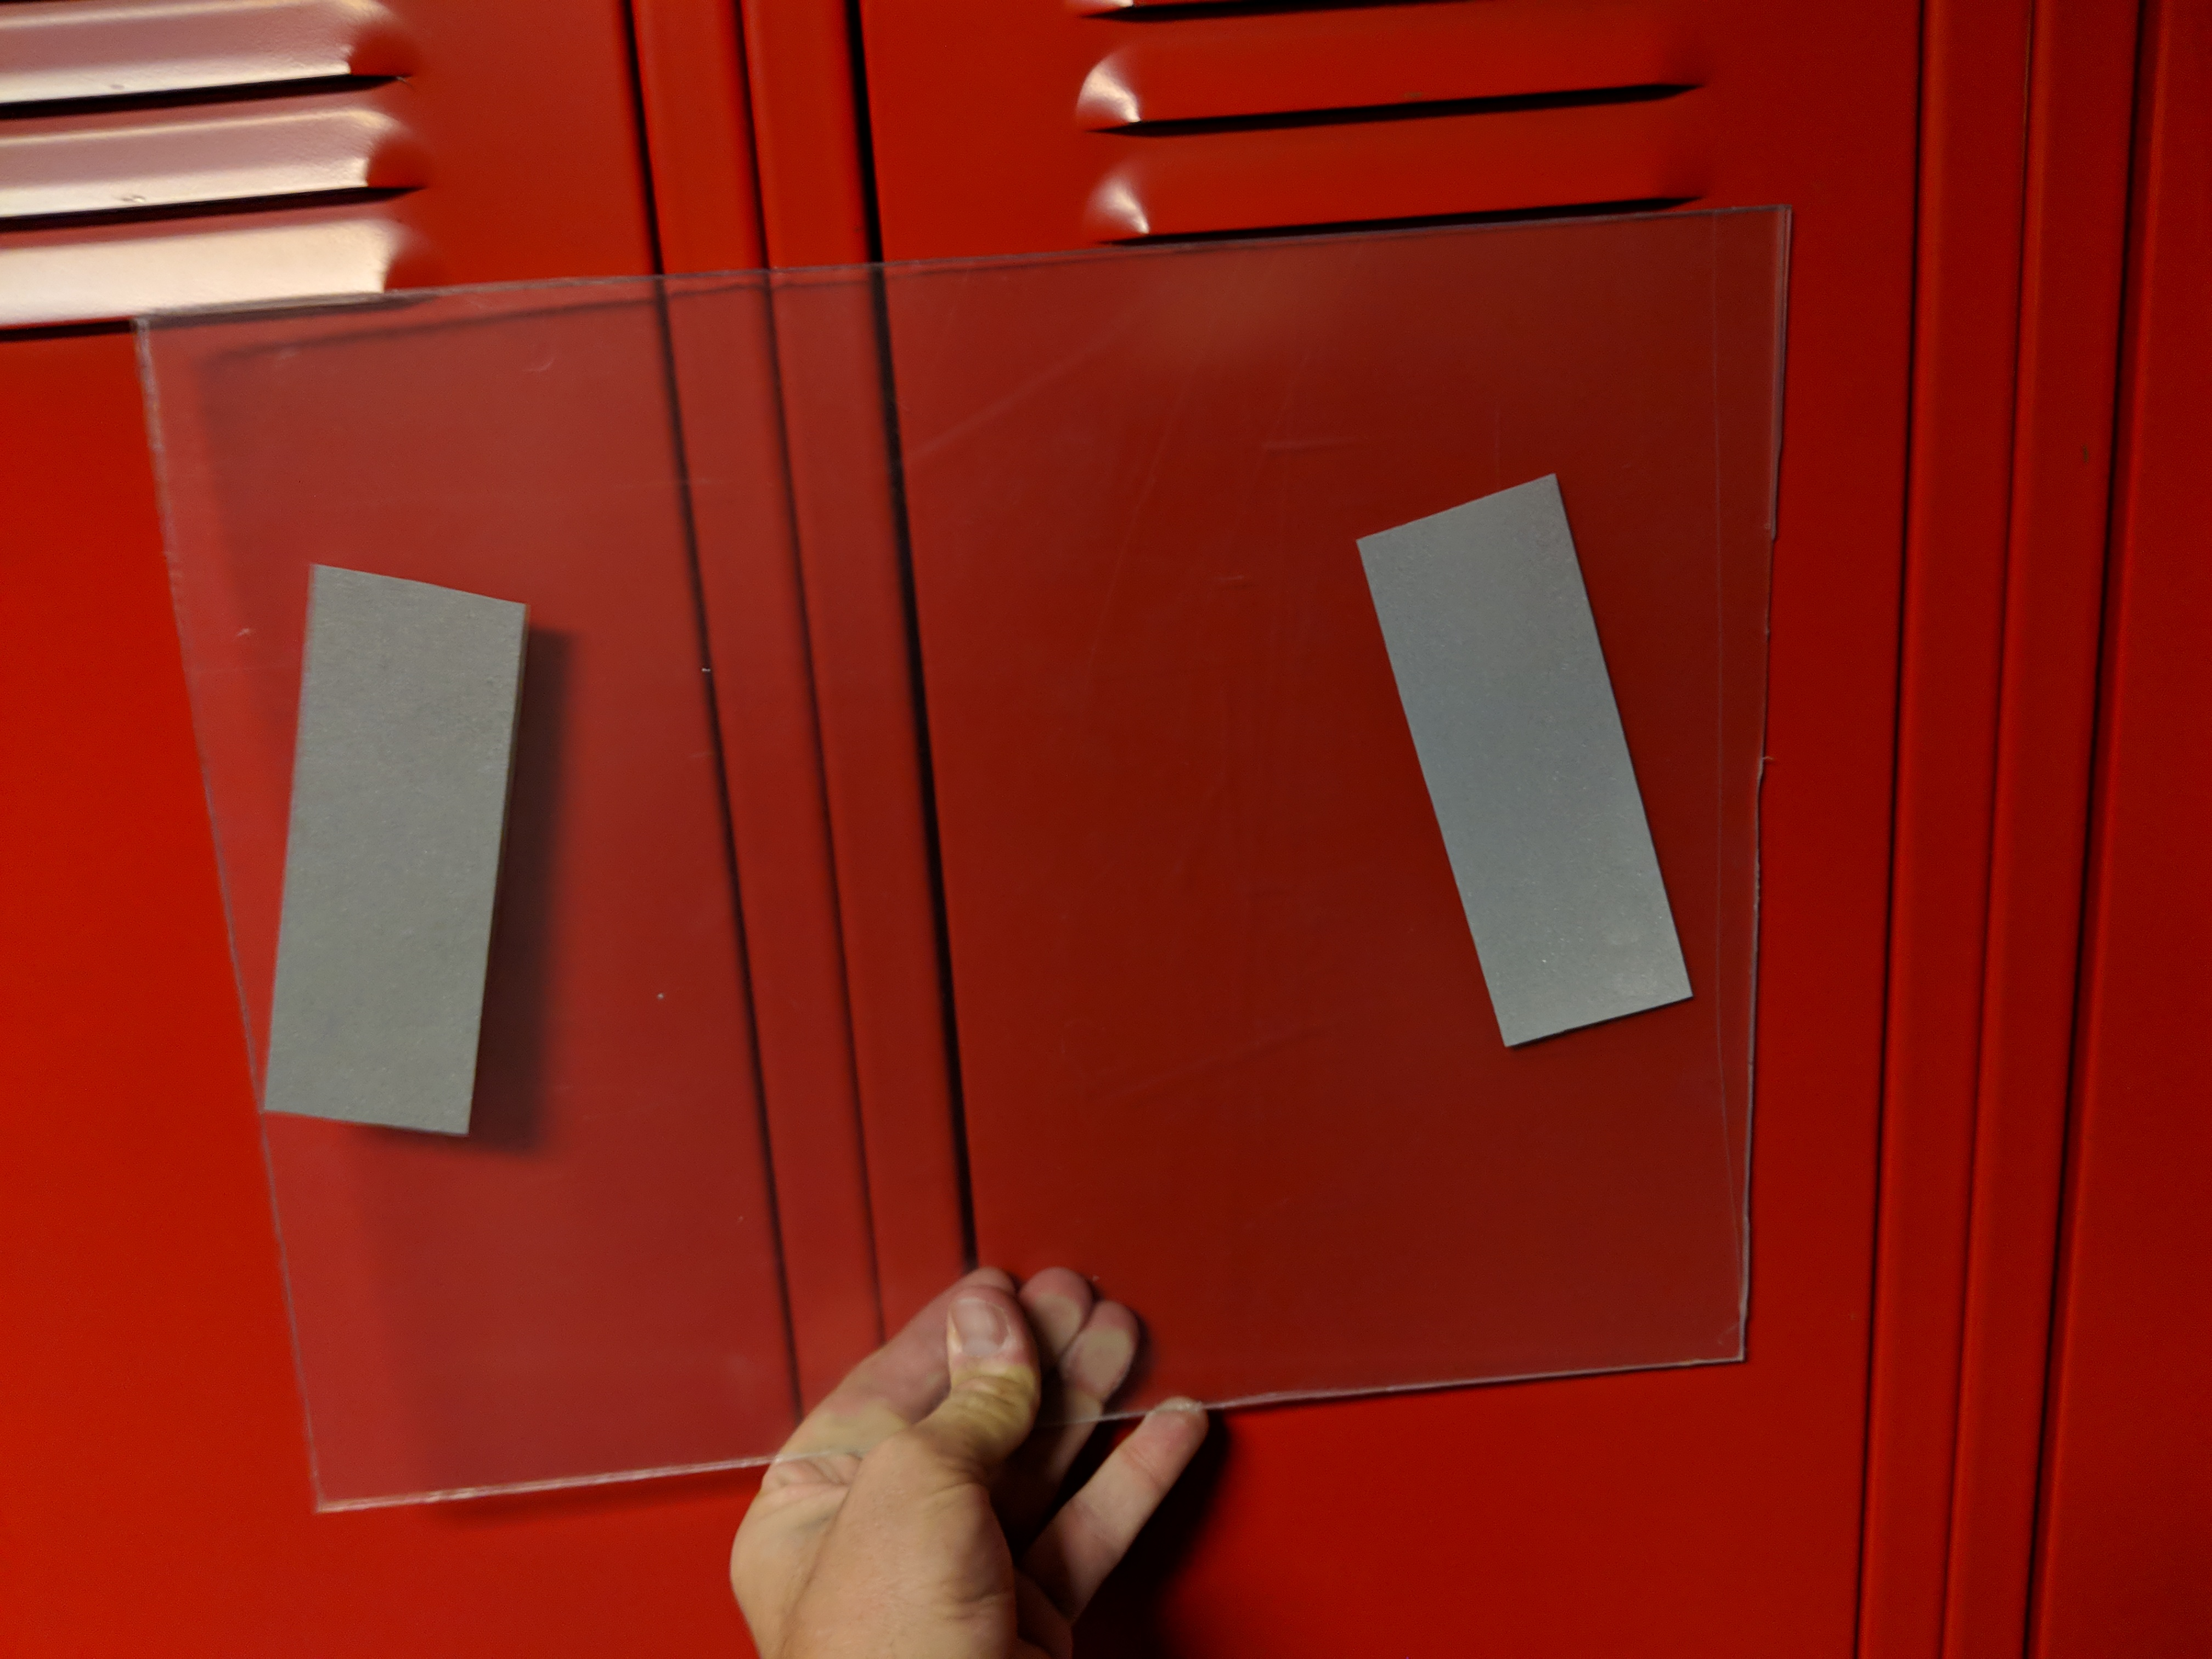vision_target: (258, 472, 1714, 1134)
